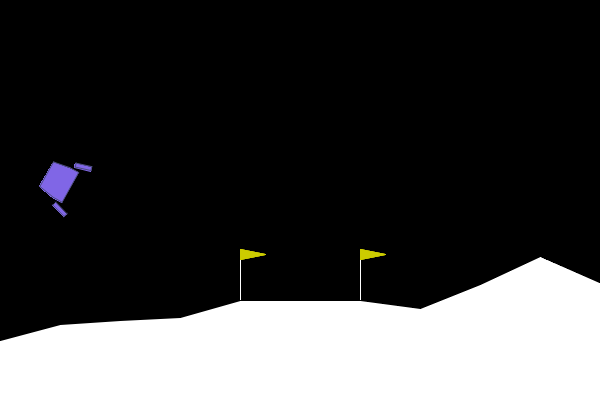lander: (30, 147, 94, 219)
